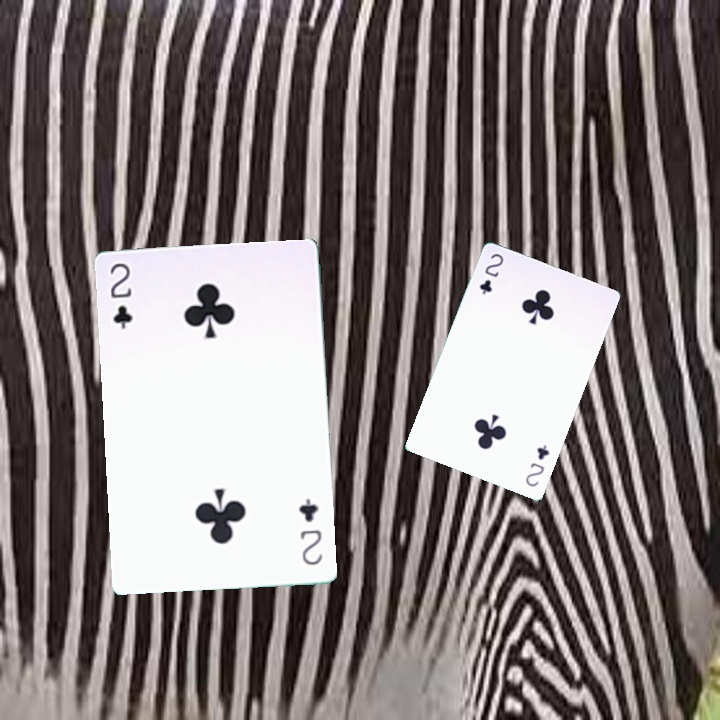2c: (294, 495, 325, 568), (105, 258, 135, 332), (521, 440, 552, 489), (475, 249, 506, 297)
